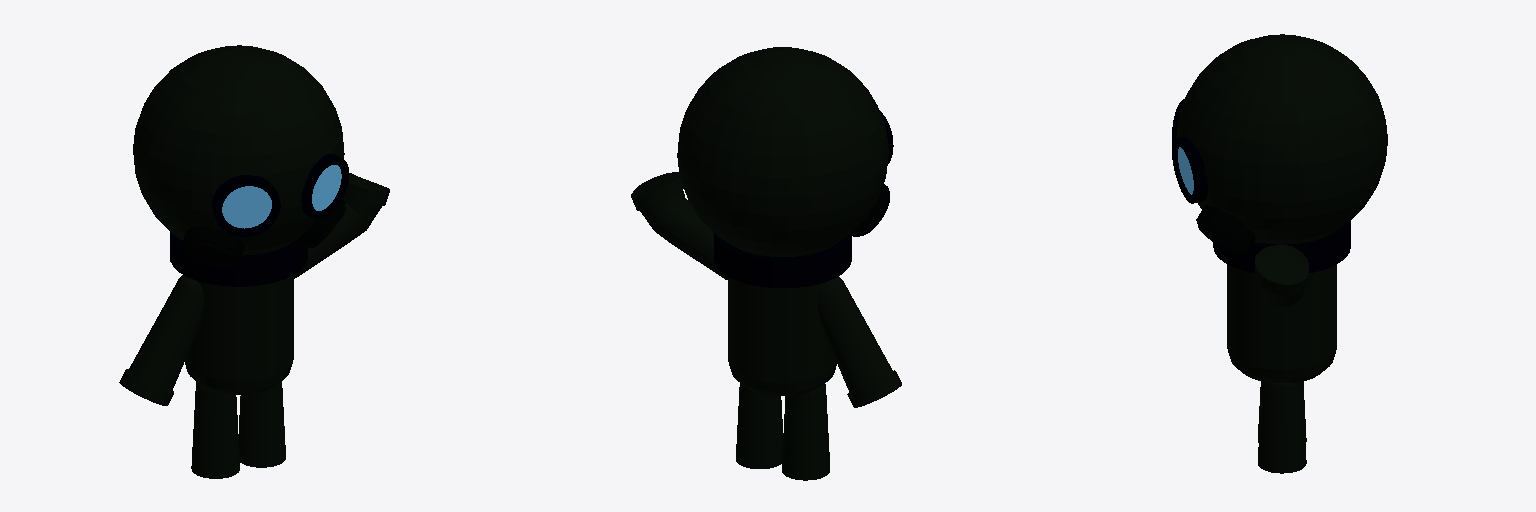
File: wip.obj
The picture shows the model from 3 angles: view 1: azimuth 30°, elevation 25°; view 2: azimuth 150°, elevation 25°; view 3: azimuth 270°, elevation 25°; orthographic projection.
Visible parts, largest first — view 1: person, person.001; view 2: person, person.001; view 3: person, person.001.
Boxes of the visible parts, <box> form: person: <box>119,45,389,478</box>; person.001: <box>170,232,307,286</box>; person: <box>631,47,901,480</box>; person.001: <box>714,233,851,287</box>; person: <box>1172,34,1387,473</box>; person.001: <box>1213,221,1350,272</box>.
Bounding box in the file's own units: 2.87 × 4.24 × 2.04.